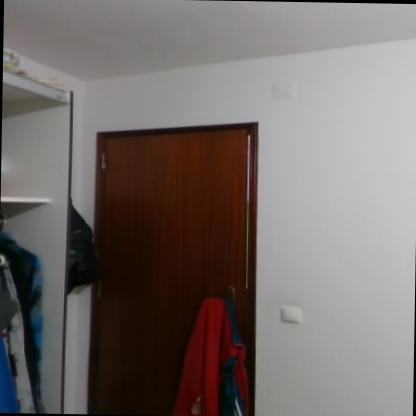closed: (41, 107, 271, 416)
